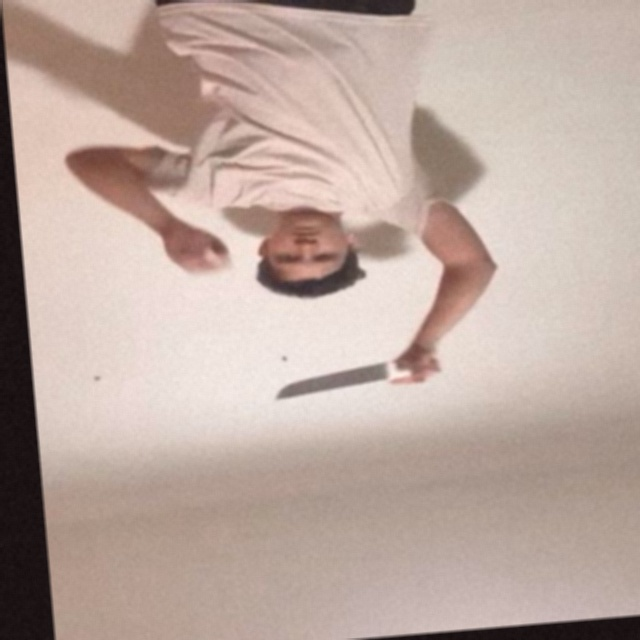Sharp-Object: (270, 362, 395, 403)
